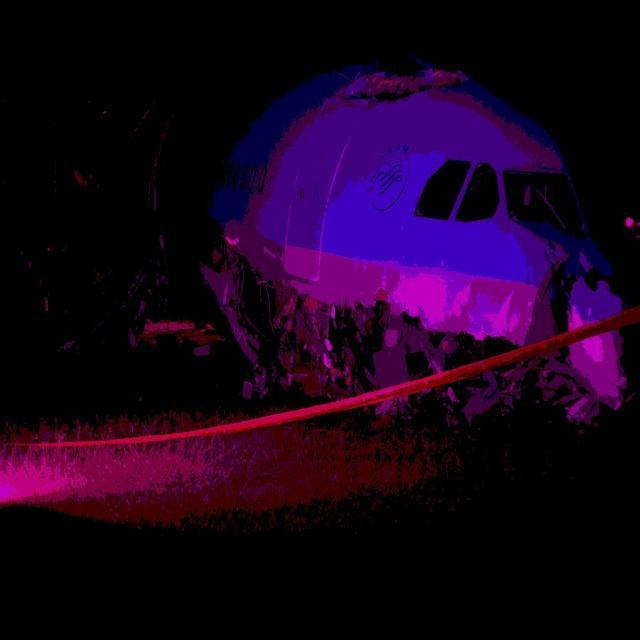crack: (342, 65, 462, 107)
